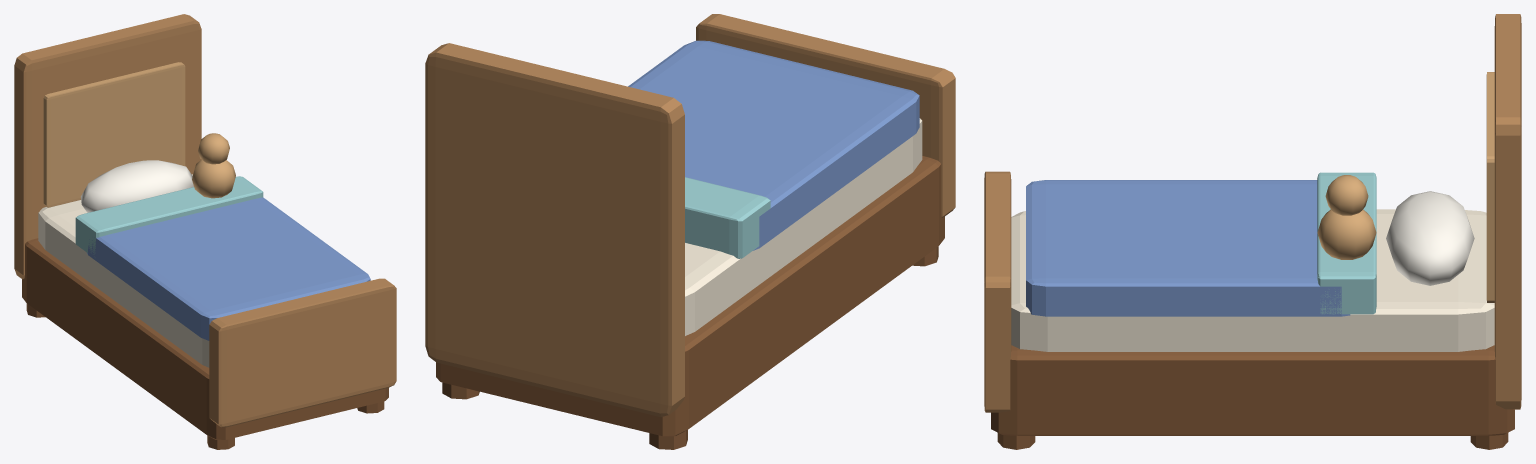
File: bed.glb
3 views of the same model, side by side, from view 1: azimuth 30°, elevation 25°; view 2: azimuth 150°, elevation 25°; view 3: azimuth 270°, elevation 25° (orthographic). The views are drawn at different scales.
Parts seen in each view (by area): view 1: bed; view 2: bed; view 3: bed.
Boxes of the visible parts, x1,y1,x2,y2 form: bed: (14,14,396,449); bed: (425,14,955,449); bed: (984,14,1521,449).
Size of the model in its own units: 1 by 1.35 by 2.
